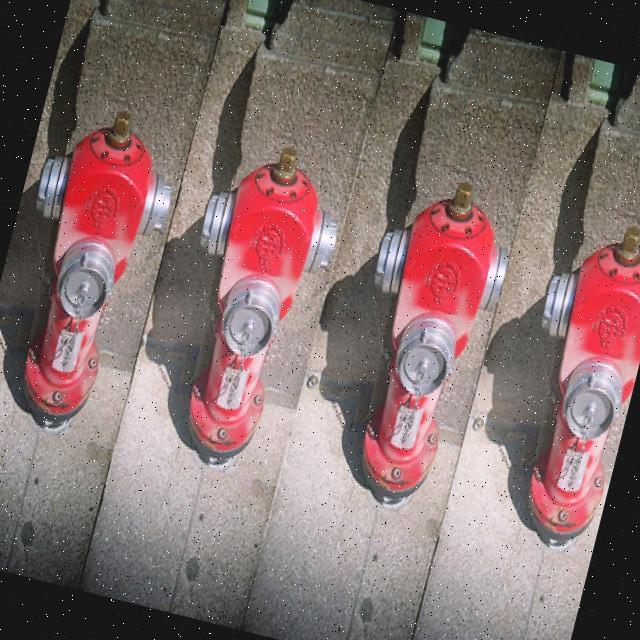fire_hydrant: (146, 124, 360, 483), (322, 162, 526, 508), (0, 92, 189, 443), (487, 208, 640, 562)
